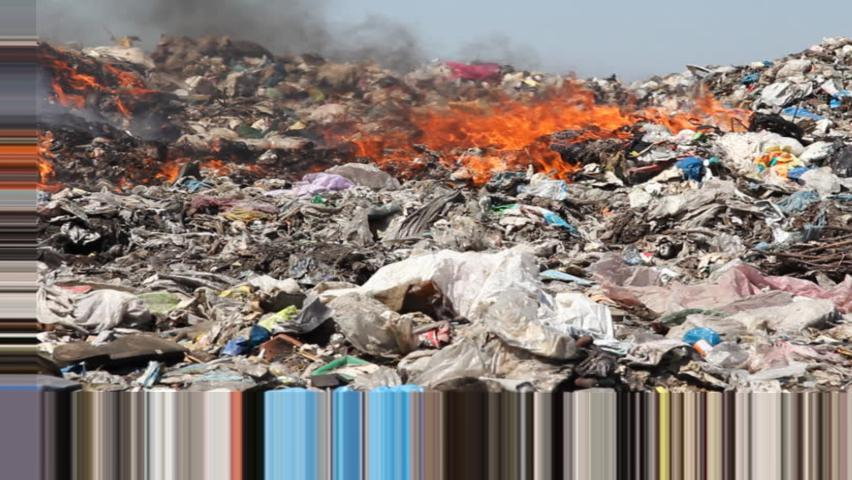fire: (329, 106, 639, 183), (659, 93, 749, 141), (145, 149, 238, 194), (747, 139, 809, 189)
smoke: (38, 1, 575, 101)
